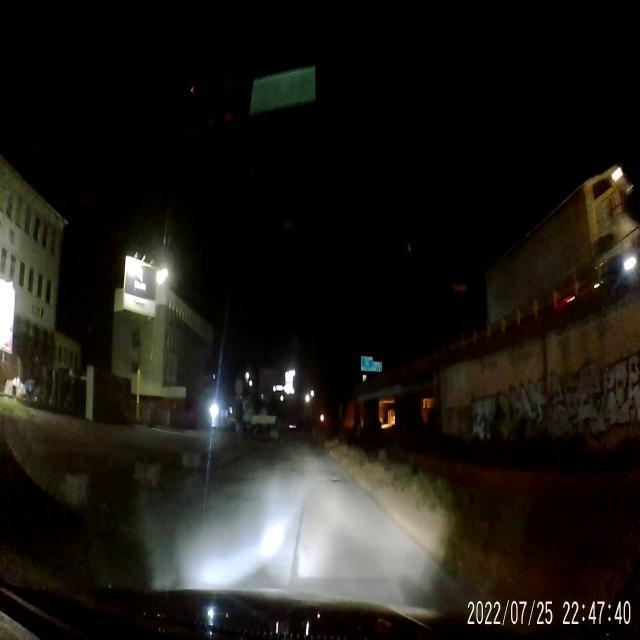Pothole: (329, 475, 352, 489)
